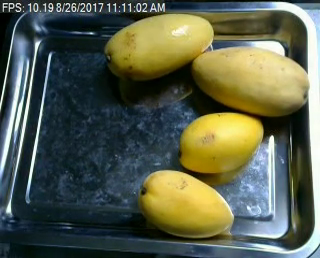Mango: (193, 39, 309, 123), (98, 11, 213, 84), (137, 165, 239, 242), (178, 107, 263, 181)
